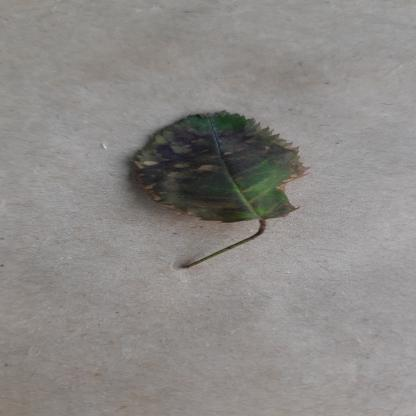powdery-mildew: (123, 112, 320, 224)
